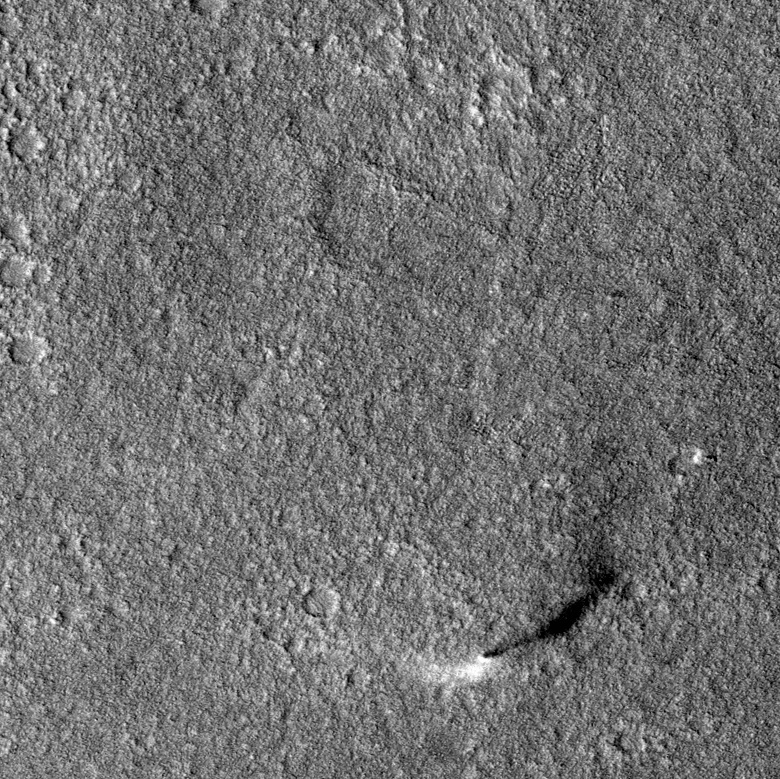dust_devil: (448, 562, 620, 688)
